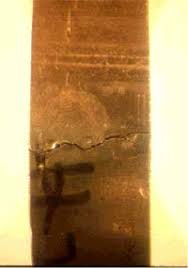rust: (24, 1, 161, 266)
